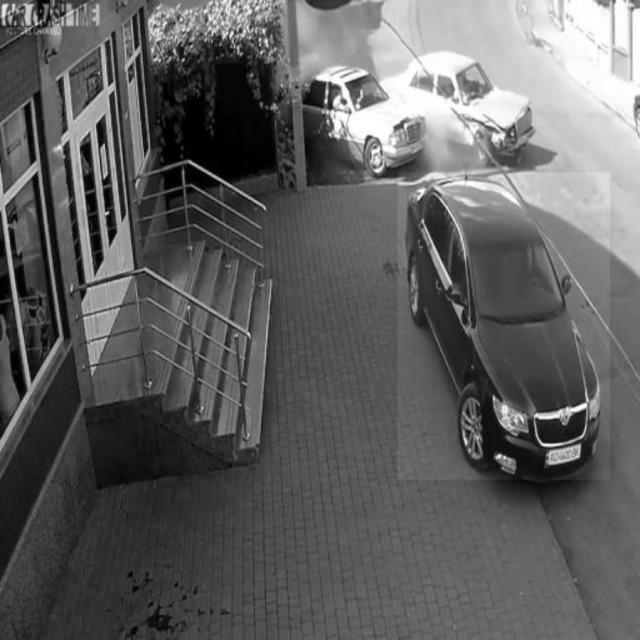accident: (303, 61, 537, 169)
vehicle: (397, 174, 611, 481)
